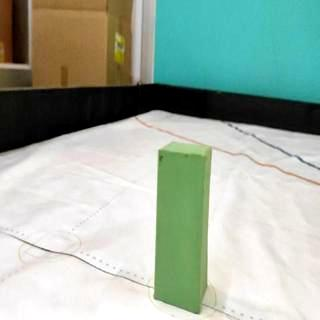greenbox: (154, 140, 212, 313)
